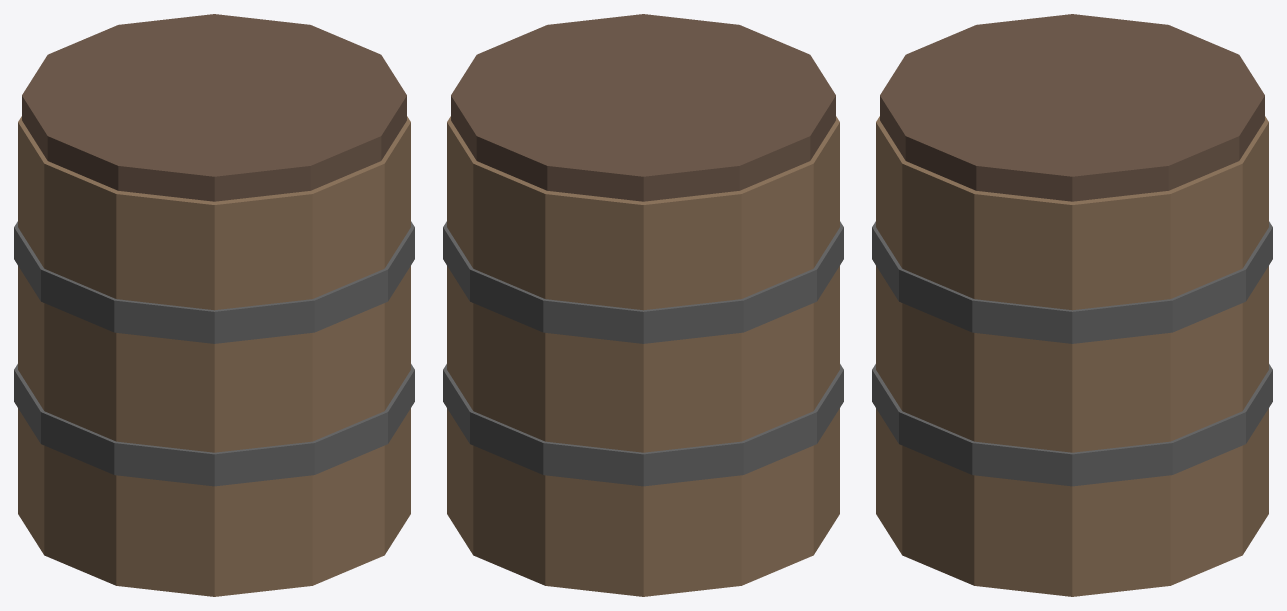
The model's file is wooden_barrel.glb.
3 renders of one model, left to right at view 1: azimuth 30°, elevation 25°; view 2: azimuth 150°, elevation 25°; view 3: azimuth 270°, elevation 25°, orthographic.
Visible parts, largest first — view 1: barrel_body, barrel_lid, barrel_band_low, barrel_band_high; view 2: barrel_body, barrel_lid, barrel_band_low, barrel_band_high; view 3: barrel_body, barrel_lid, barrel_band_low, barrel_band_high.
Part boxes in pixels (x1=…): barrel_body: x1=18, y1=116, x2=410, y2=596; barrel_lid: x1=22, y1=14, x2=406, y2=201; barrel_band_low: x1=14, y1=364, x2=414, y2=486; barrel_band_high: x1=14, y1=221, x2=414, y2=343; barrel_body: x1=447, y1=116, x2=839, y2=596; barrel_lid: x1=451, y1=14, x2=835, y2=201; barrel_band_low: x1=443, y1=364, x2=843, y2=486; barrel_band_high: x1=443, y1=221, x2=843, y2=343; barrel_body: x1=876, y1=116, x2=1268, y2=596; barrel_lid: x1=880, y1=14, x2=1264, y2=201; barrel_band_low: x1=872, y1=364, x2=1272, y2=486; barrel_band_high: x1=872, y1=221, x2=1272, y2=343.
Size of the model in its own units: 0.51 by 0.5875 by 0.51.
